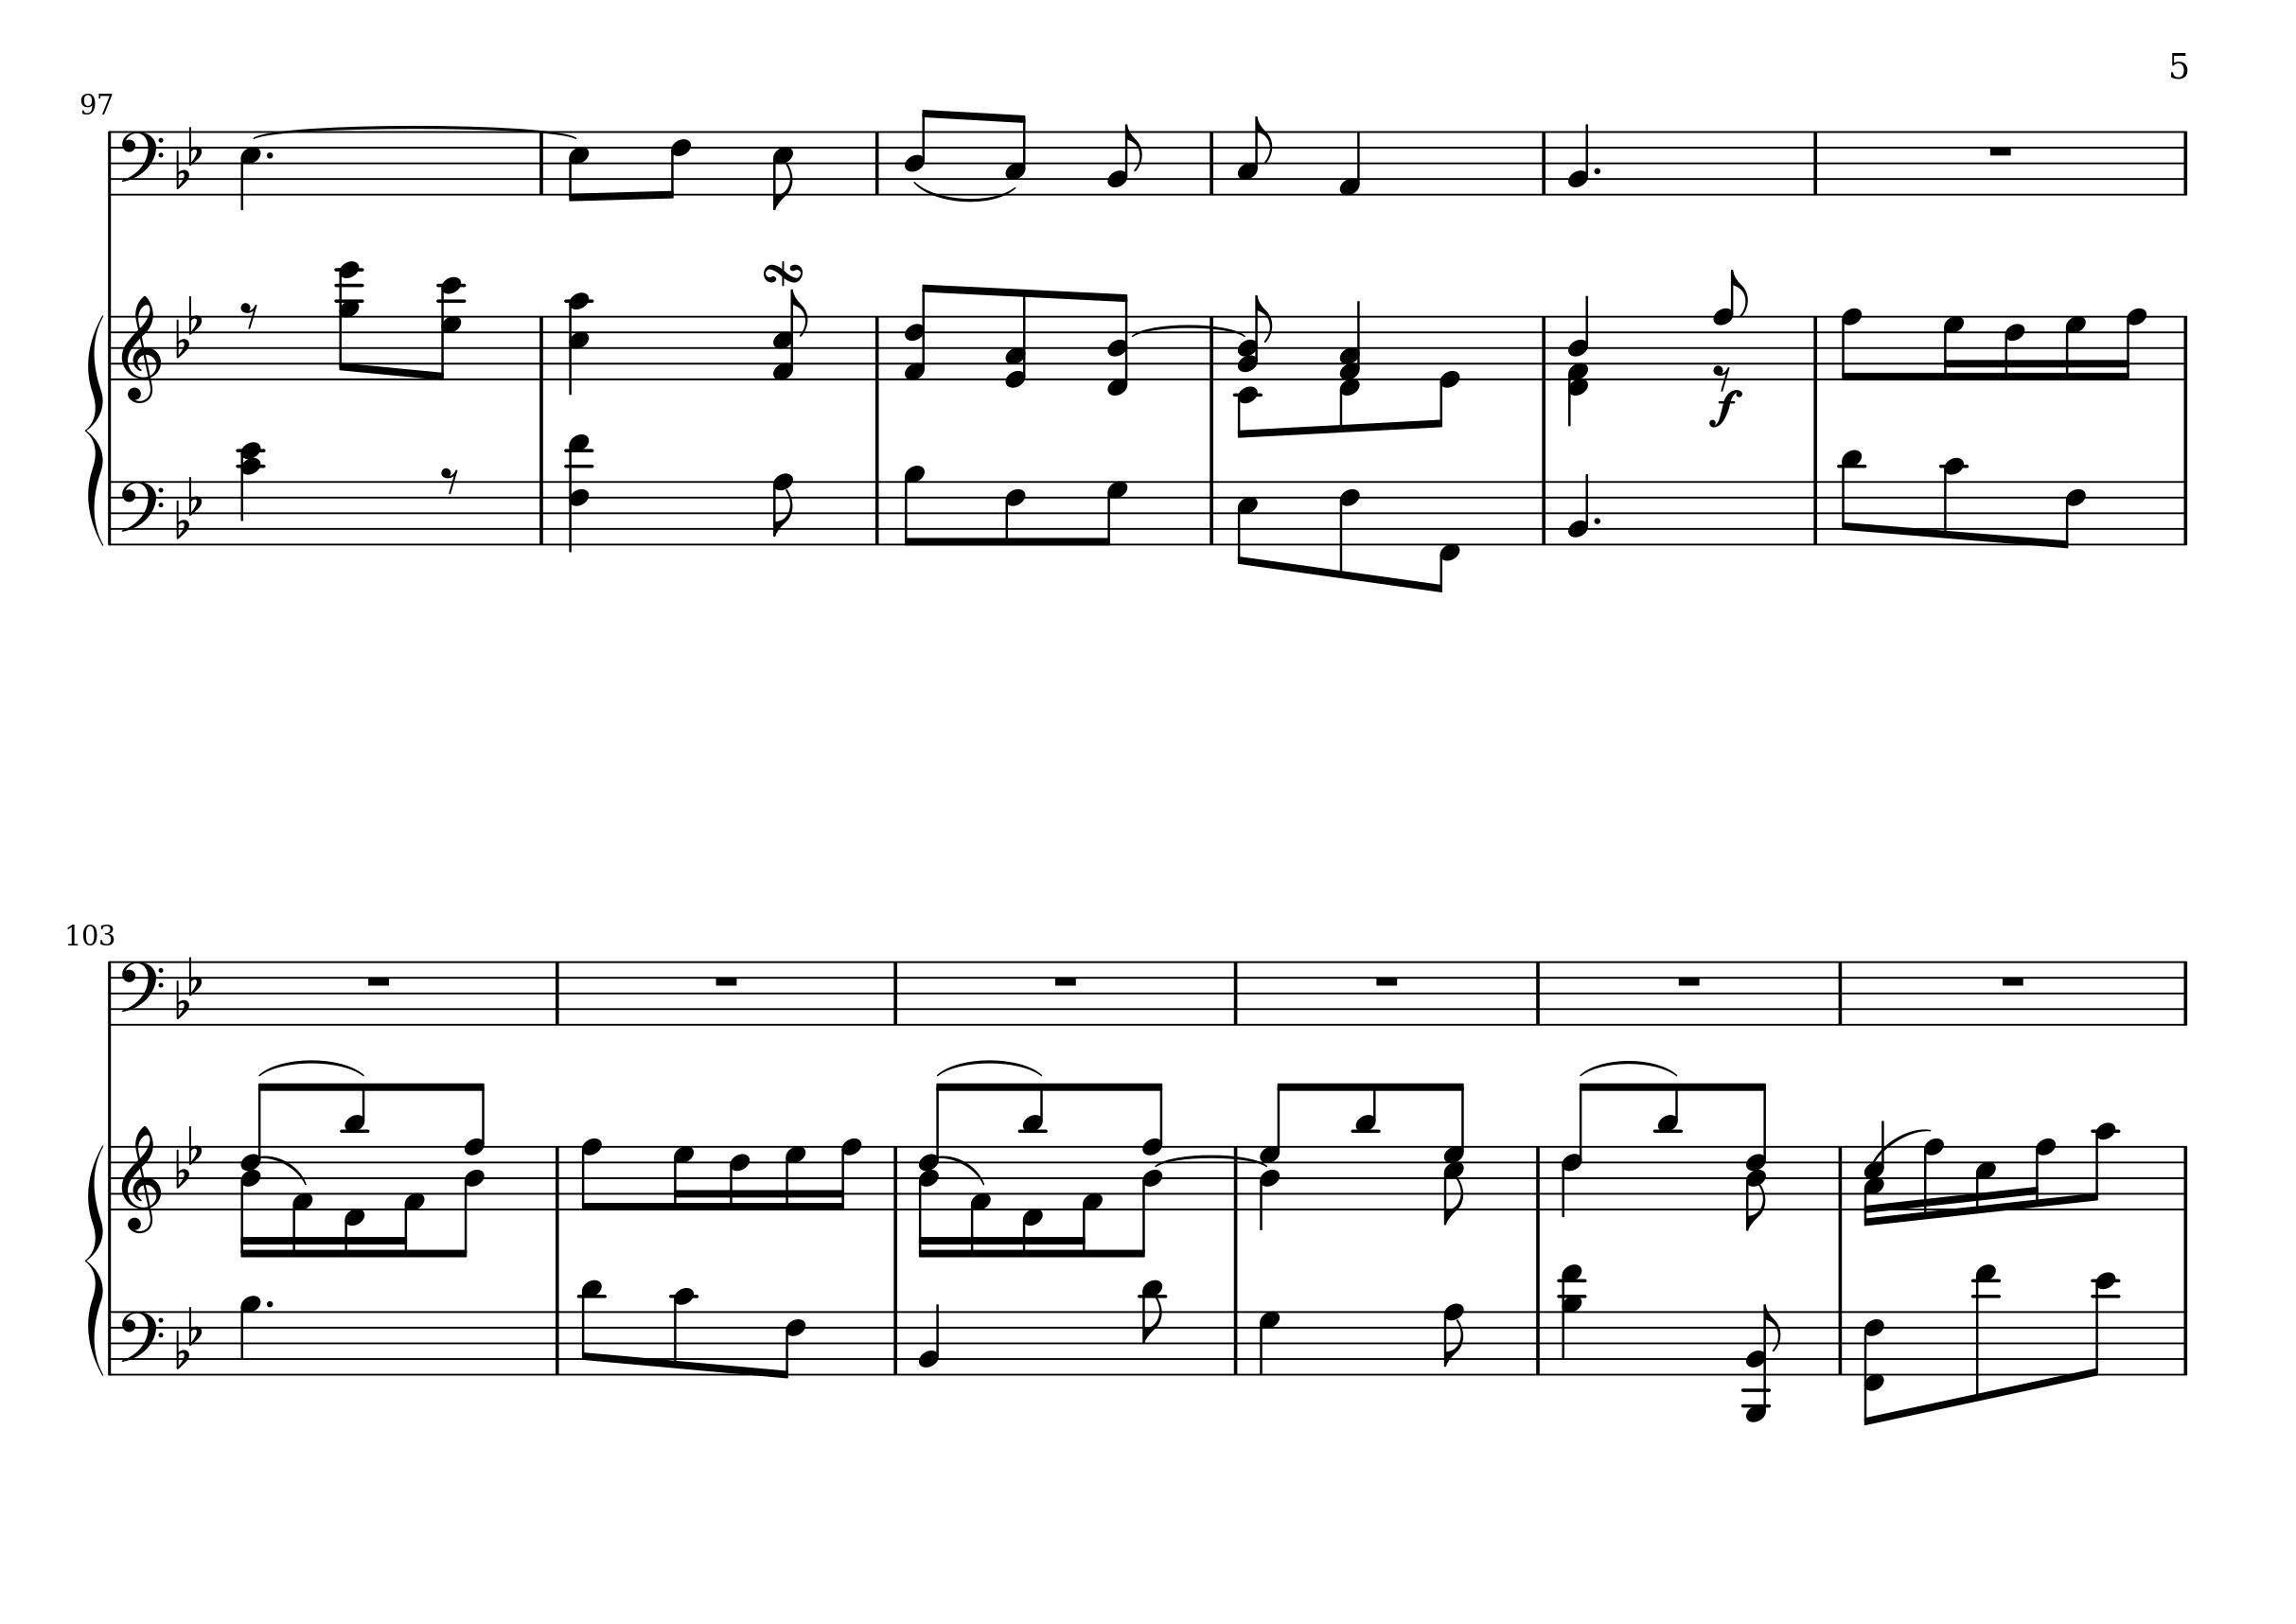0: (81, 921, 98, 946)
1: (65, 921, 79, 947)
16_-1: (1021, 1142, 1045, 1258), (344, 1142, 367, 1258)
16_1: (1075, 1141, 1103, 1258), (397, 1141, 425, 1257), (290, 1142, 314, 1260), (968, 1142, 993, 1258)
16_5: (1975, 1142, 1997, 1214)
16_6: (2003, 313, 2027, 383), (727, 1142, 752, 1213)
16_7: (782, 1142, 808, 1213), (1941, 313, 1966, 383), (2062, 313, 2087, 383), (671, 1142, 696, 1213)
16_8: (829, 1135, 863, 1213), (2022, 1137, 2055, 1211), (2115, 306, 2147, 383), (1922, 1135, 1945, 1222)
3: (100, 921, 116, 946)
4_1: (1337, 130, 1361, 197)
4_10_12: (235, 441, 265, 547)
4_2: (917, 1301, 943, 1376), (1567, 121, 1592, 199), (1567, 471, 1592, 547)
4_5: (239, 128, 262, 213)
4_5_10: (562, 290, 594, 395)
4_6_13: (566, 432, 596, 552)
4_7: (1258, 1309, 1282, 1376)
4_9: (239, 1294, 262, 1376)
4_9_13: (1558, 1262, 1586, 1374)
5: (2168, 47, 2191, 83)
7: (97, 90, 114, 116)
8_-1: (1430, 476, 1462, 592)
8_-1_4: (1105, 290, 1131, 397)
8_-1_6: (1862, 1309, 1887, 1429)
8_-5_2: (1741, 1302, 1781, 1422)
8_0_3: (1003, 288, 1029, 390)
8_10: (2085, 1121, 2119, 1211), (1938, 457, 1969, 548), (668, 1285, 697, 1376)
8_11: (1351, 1081, 1381, 1214), (1653, 1081, 1683, 1214), (1138, 1276, 1168, 1376), (578, 1278, 606, 1378), (1839, 448, 1866, 548)
8_12: (2082, 1267, 2120, 1378)
8_13: (1971, 1262, 1999, 1401)
8_1_5: (901, 283, 942, 383), (773, 290, 810, 383)
8_2: (1105, 121, 1144, 195)
8_3: (1237, 114, 1274, 195), (1003, 112, 1028, 197)
8_4: (903, 107, 935, 195)
8_4_6: (1743, 1084, 1767, 1232)
8_4_8: (1133, 1081, 1163, 1260), (457, 1081, 487, 1258)
8_5: (1235, 478, 1260, 568), (771, 128, 796, 211), (567, 130, 590, 204)
8_5_7: (1442, 1081, 1467, 1225)
8_6: (1337, 478, 1360, 582), (2055, 478, 2087, 550), (775, 1309, 806, 1380), (662, 128, 692, 200), (1005, 478, 1026, 547)
8_7: (1098, 478, 1128, 547)
8_7_12: (429, 276, 466, 383)
8_8: (1713, 267, 1748, 378), (1839, 306, 1864, 381), (771, 471, 796, 547), (1442, 1301, 1467, 1376), (580, 1135, 603, 1211)
8_9: (903, 464, 924, 547)
8_9_14: (334, 260, 364, 383)
9: (79, 90, 95, 116)
B_F: (174, 1121, 204, 1188), (176, 1302, 204, 1371), (174, 127, 204, 190), (174, 294, 202, 359), (174, 954, 202, 1019), (176, 476, 202, 540)
Brace: (84, 311, 105, 548)
Fclef: (118, 958, 165, 1026), (118, 1308, 165, 1376), (116, 128, 163, 195), (119, 478, 165, 547)
Gclef: (121, 292, 163, 404), (119, 1123, 162, 1236)
Rests1: (362, 972, 395, 990), (1985, 142, 2017, 160), (1049, 972, 1080, 990), (1997, 972, 2029, 990), (711, 972, 741, 990), (1372, 972, 1402, 990), (1674, 972, 1704, 990)
Rests8: (439, 462, 460, 494), (239, 299, 260, 329), (1711, 362, 1732, 388)
Single_barline: (532, 315, 553, 380), (1806, 315, 1827, 378), (548, 1146, 569, 1209), (532, 132, 553, 193), (868, 480, 887, 545), (548, 1309, 567, 1374), (1806, 482, 1825, 545), (548, 961, 567, 1025), (1228, 1146, 1247, 1209), (1830, 1146, 1850, 1209), (1534, 132, 1553, 193), (1806, 132, 1825, 193), (1203, 318, 1223, 380), (870, 315, 887, 380), (534, 480, 552, 545), (1203, 480, 1221, 545), (1832, 1309, 1850, 1374), (2177, 132, 2194, 195), (1535, 316, 1553, 380), (1535, 482, 1553, 545), (887, 961, 905, 1025), (1830, 961, 1848, 1025), (1530, 1146, 1548, 1209), (887, 1146, 905, 1209), (887, 1309, 905, 1373), (1530, 1309, 1548, 1373), (1228, 1309, 1245, 1373), (102, 130, 118, 195), (2177, 315, 2192, 380), (102, 961, 118, 1026), (2177, 1309, 2192, 1374), (870, 130, 885, 193), (2177, 482, 2192, 545), (2177, 961, 2192, 1025), (1228, 961, 1244, 1025), (1530, 961, 1546, 1025), (2177, 1146, 2192, 1209), (1203, 132, 1219, 193), (105, 316, 119, 380), (105, 482, 119, 545), (105, 1146, 118, 1209), (105, 1311, 118, 1374)
Slur: (910, 179, 1015, 202), (258, 1058, 365, 1079), (1578, 1056, 1681, 1077), (1869, 1125, 1931, 1160), (935, 1058, 1045, 1077), (1154, 1151, 1261, 1167), (264, 1148, 309, 1185), (940, 1149, 987, 1185), (1131, 323, 1242, 337)
Turn_Slash: (762, 257, 806, 286)
dot: (1590, 513, 1604, 526), (264, 149, 276, 162), (264, 1297, 276, 1309), (1590, 165, 1604, 176)
f: (1708, 387, 1743, 427)
